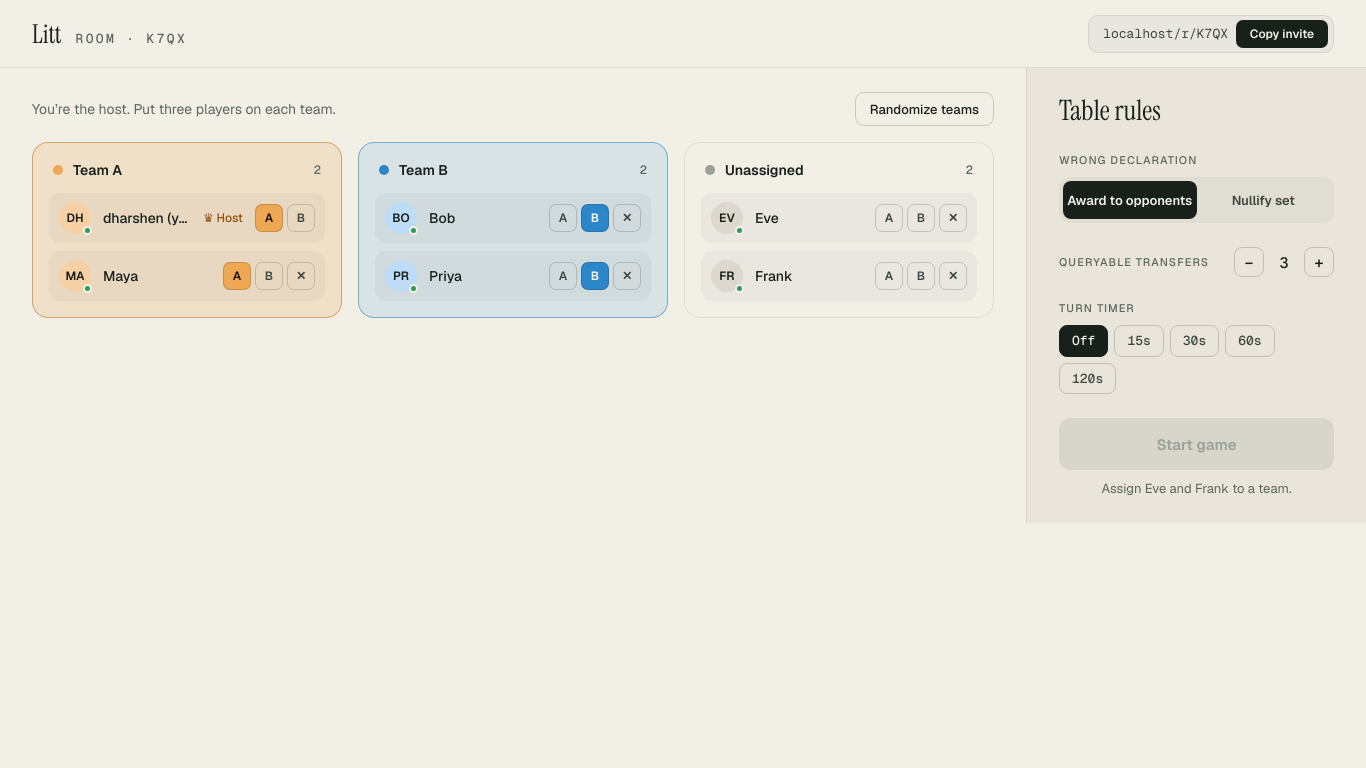
Test: Lobby as the host › copies the invite link and says so
Click the button "Copy invite" at (1282, 34), box [1236,20,1328,48]
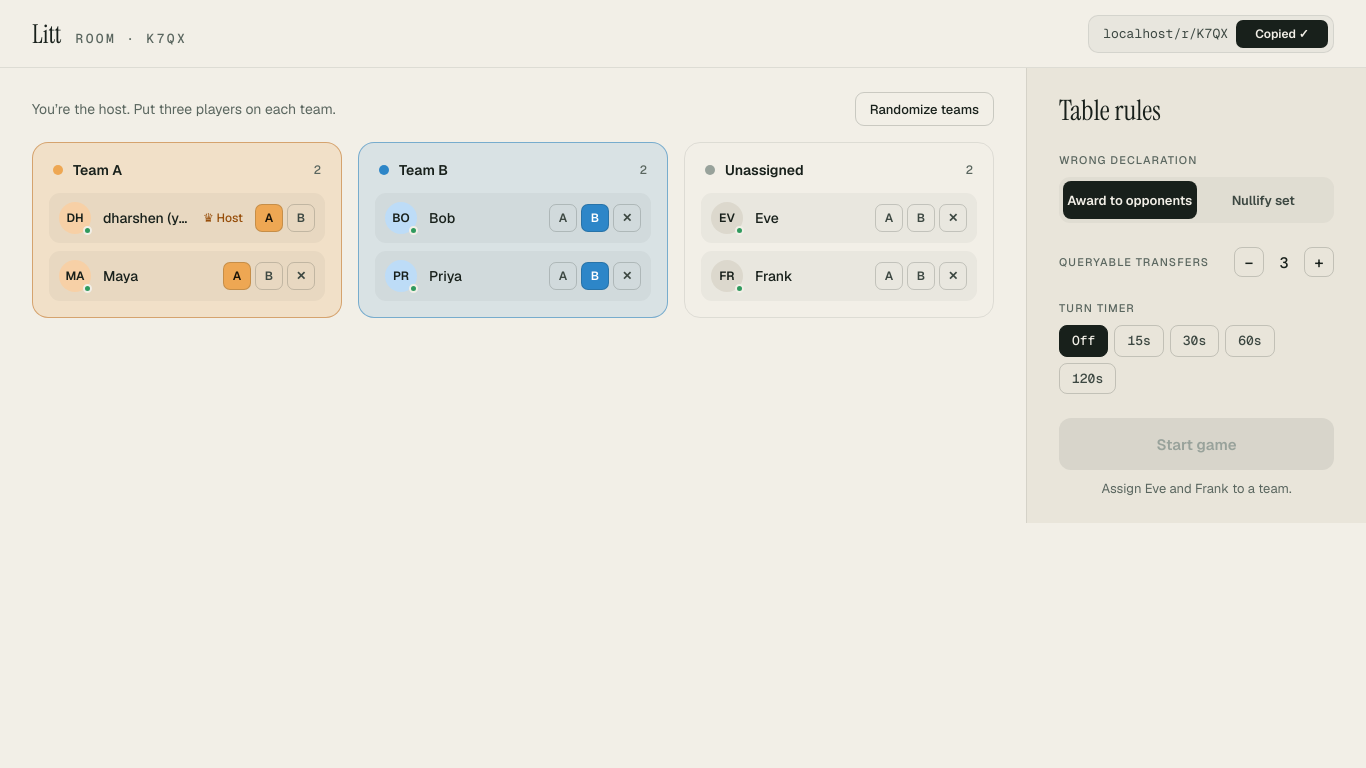
Check: the button "Copied ✓" is shown, box [1236,20,1328,48]
